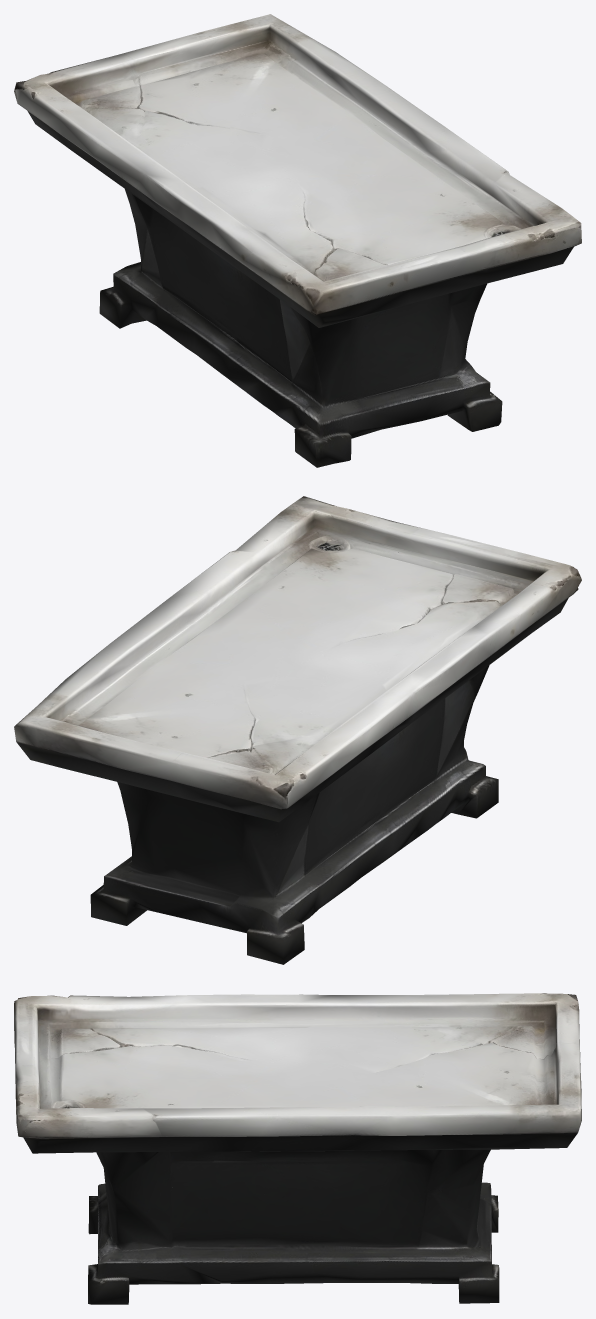
Rendered from morgue_table_aged.glb.
3 views of the same model, one above another, from view 1: azimuth 30°, elevation 25°; view 2: azimuth 150°, elevation 25°; view 3: azimuth 270°, elevation 25° (orthographic). The views are drawn at different scales.
Visible parts, largest first — view 1: tripo_node_fdf708d1-91b2-47e2-bb2f-b35ef5d84275; view 2: tripo_node_fdf708d1-91b2-47e2-bb2f-b35ef5d84275; view 3: tripo_node_fdf708d1-91b2-47e2-bb2f-b35ef5d84275.
Boxes of the visible parts, x1,y1,x2,y2 form: tripo_node_fdf708d1-91b2-47e2-bb2f-b35ef5d84275: [14, 14, 581, 467]; tripo_node_fdf708d1-91b2-47e2-bb2f-b35ef5d84275: [14, 496, 581, 964]; tripo_node_fdf708d1-91b2-47e2-bb2f-b35ef5d84275: [14, 993, 581, 1304].
Size of the model in its own units: 0.5389 by 0.4055 by 1.
Materials: 1 (1 with a texture image).
